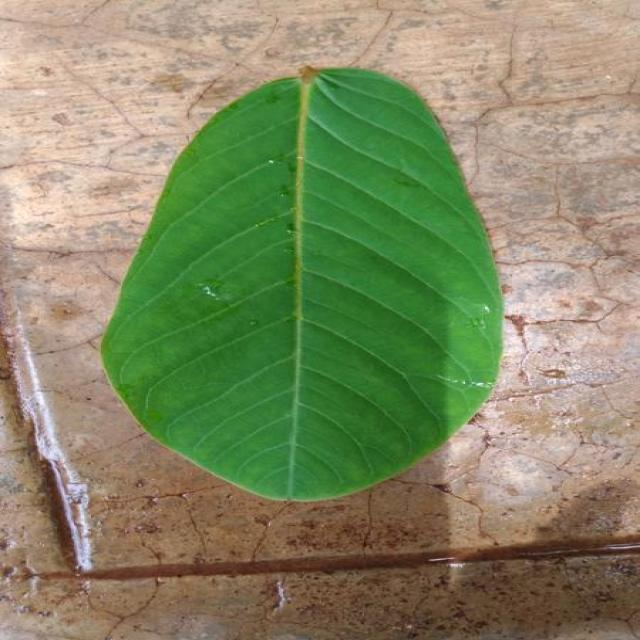chakte: (102, 69, 503, 499)
